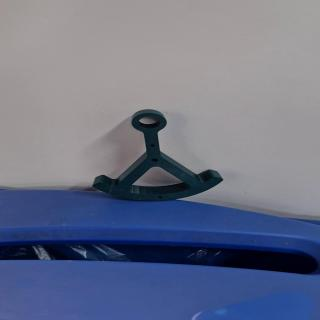haptic: (92, 109, 224, 202)
